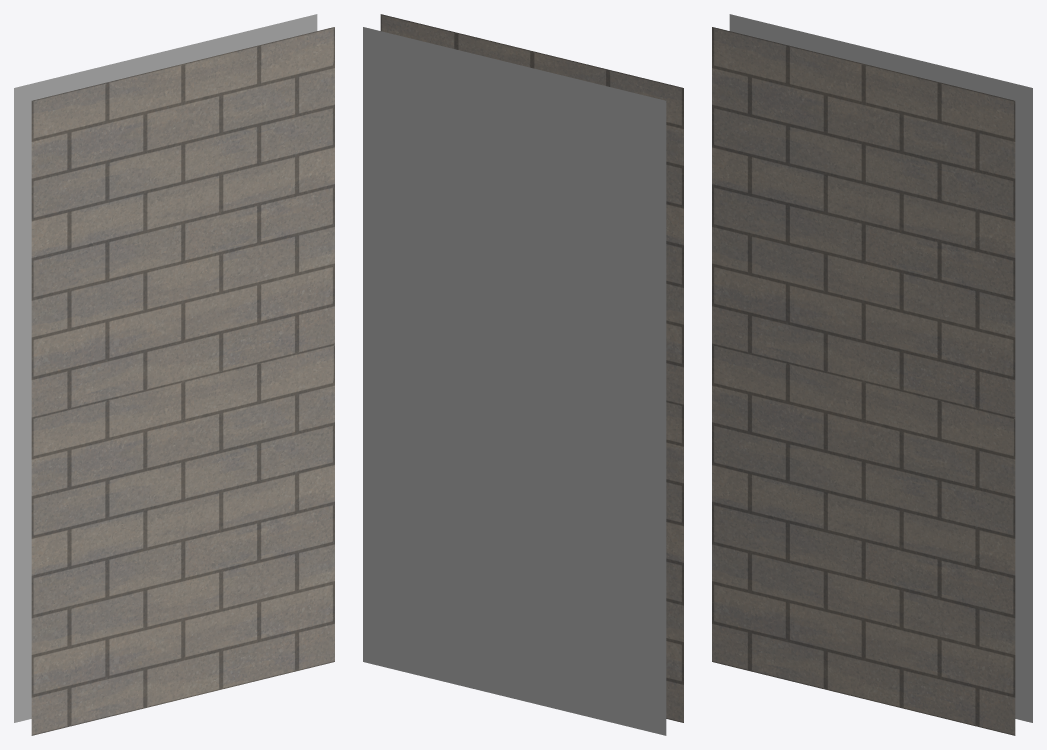
Rendered from WhiteBrick_Plain_4.gltf.
3 views of the same model, side by side, from view 1: azimuth 30°, elevation 25°; view 2: azimuth 150°, elevation 25°; view 3: azimuth 330°, elevation 25° (orthographic).
Visible parts, largest first — view 1: WhiteBrick_Plain_4; view 2: WhiteBrick_Plain_4; view 3: WhiteBrick_Plain_4.
Boxes of the visible parts, x1,y1,x2,y2 form: WhiteBrick_Plain_4: [14, 14, 334, 735]; WhiteBrick_Plain_4: [363, 14, 683, 735]; WhiteBrick_Plain_4: [712, 14, 1032, 735].
Size of what is drawn, in the model's own units: 2 by 4 by 0.2.
